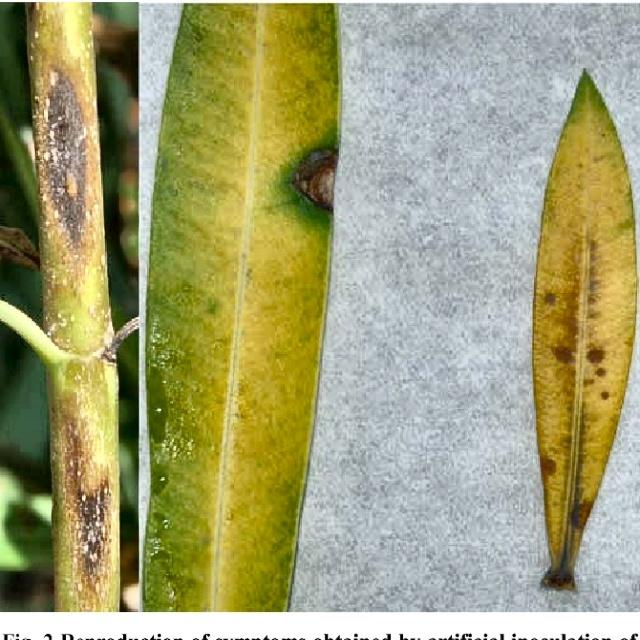leaf_spot: (505, 169, 640, 588), (202, 39, 337, 458)
